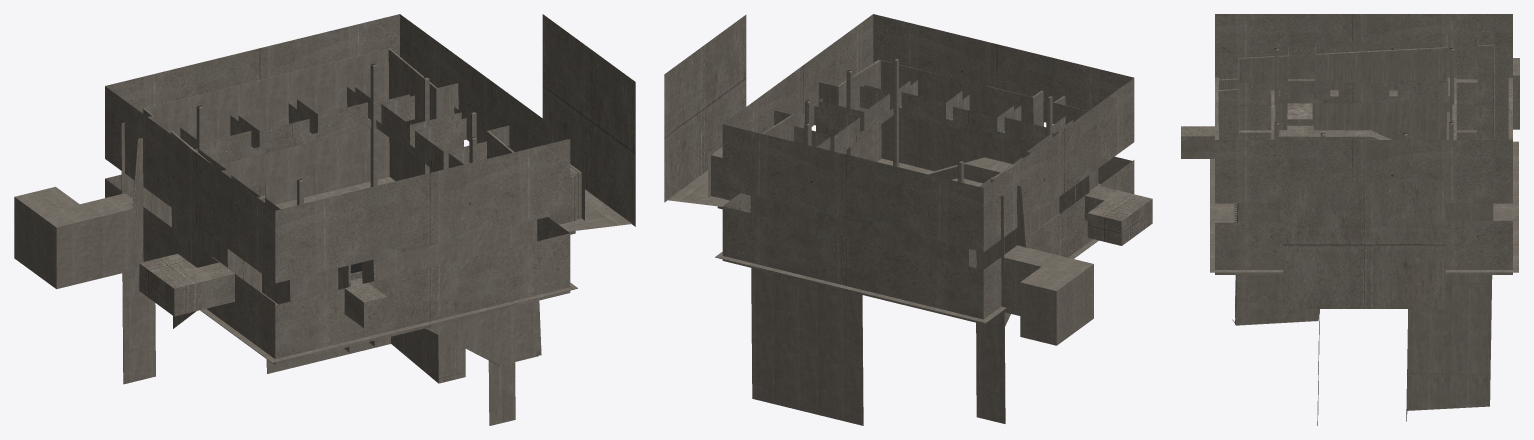
Rendered from 3drop_gallery_v18.glb.
3 renders of one model, left to right at view 1: azimuth 30°, elevation 25°; view 2: azimuth 150°, elevation 25°; view 3: azimuth 270°, elevation 25°, orthographic. The views are drawn at different scales.
Parts seen in each view (by area): view 1: frameConcreteExternal, frameVisitableZoneSuround, ctrlPlateformConcrete_grndPhys, suroundConcretePillars02, entranceLobbyConcrete; view 2: frameConcreteExternal, frameVisitableZoneSuround, ctrlPlateformConcrete_grndPhys, stairsPath, entranceLobbyConcrete, suroundConcretePillars05; view 3: frameConcreteExternal, frameVisitableZoneSuround, ctrlPlateformConcrete_grndPhys, stairsPath, suroundConcretePillars06, suroundConcretePillars01.
Part boxes in pixels (x1,y1,x2,y2): frameConcreteExternal: (14, 14, 575, 364); frameVisitableZoneSuround: (121, 48, 541, 425); ctrlPlateformConcrete_grndPhys: (136, 14, 635, 363); suroundConcretePillars02: (370, 63, 377, 187); entranceLobbyConcrete: (570, 160, 584, 220); frameConcreteExternal: (717, 14, 1152, 345); frameVisitableZoneSuround: (750, 60, 1098, 425); ctrlPlateformConcrete_grndPhys: (664, 15, 1098, 323); stairsPath: (928, 157, 1100, 234); entranceLobbyConcrete: (708, 143, 739, 200); suroundConcretePillars05: (893, 58, 898, 167); frameConcreteExternal: (1181, 14, 1519, 274); frameVisitableZoneSuround: (1218, 33, 1494, 425); ctrlPlateformConcrete_grndPhys: (1210, 141, 1518, 308); stairsPath: (1234, 125, 1392, 222); suroundConcretePillars06: (1274, 48, 1278, 121); suroundConcretePillars01: (1450, 48, 1454, 121).
Bounding box in the file's own units: 132 × 84.92 × 90.95.
2 materials, 2 textured.
